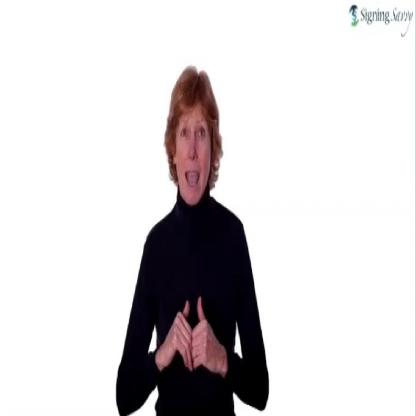HowAreYou: (160, 284, 218, 384)
